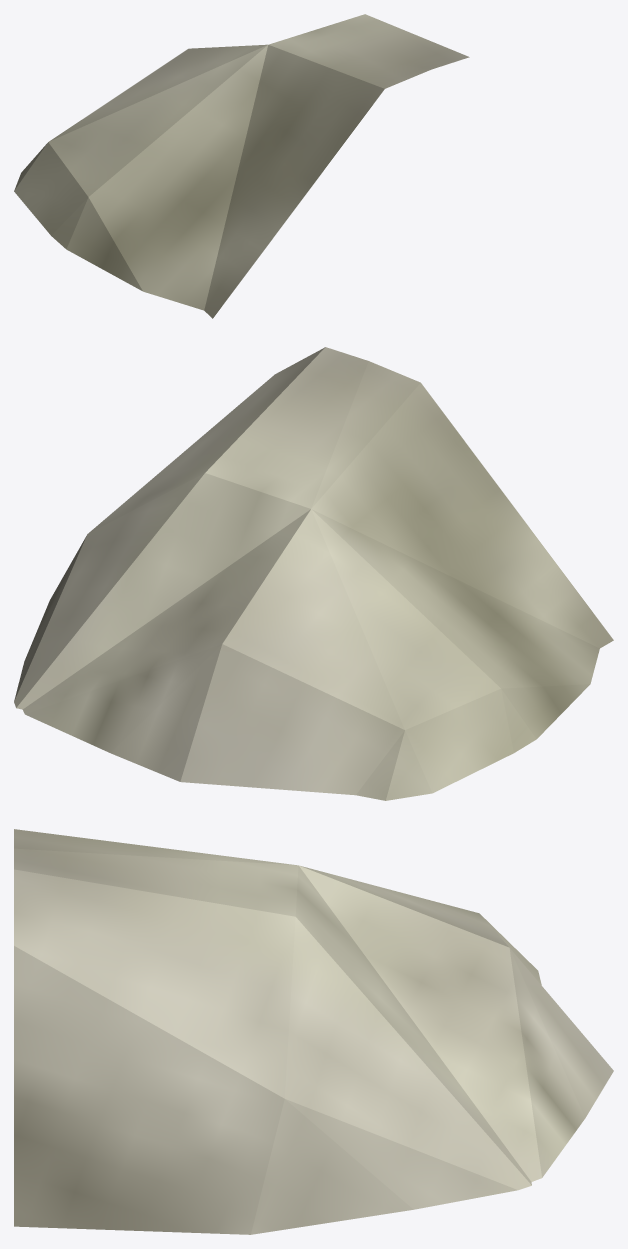
3 views of the same model, one above another, from view 1: azimuth 30°, elevation 25°; view 2: azimuth 150°, elevation 25°; view 3: azimuth 270°, elevation 25° (orthographic). The views are drawn at different scales.
Bounding box in the file's own units: 0.4046 × 0.1699 × 0.35.
1 material, 1 textured.
